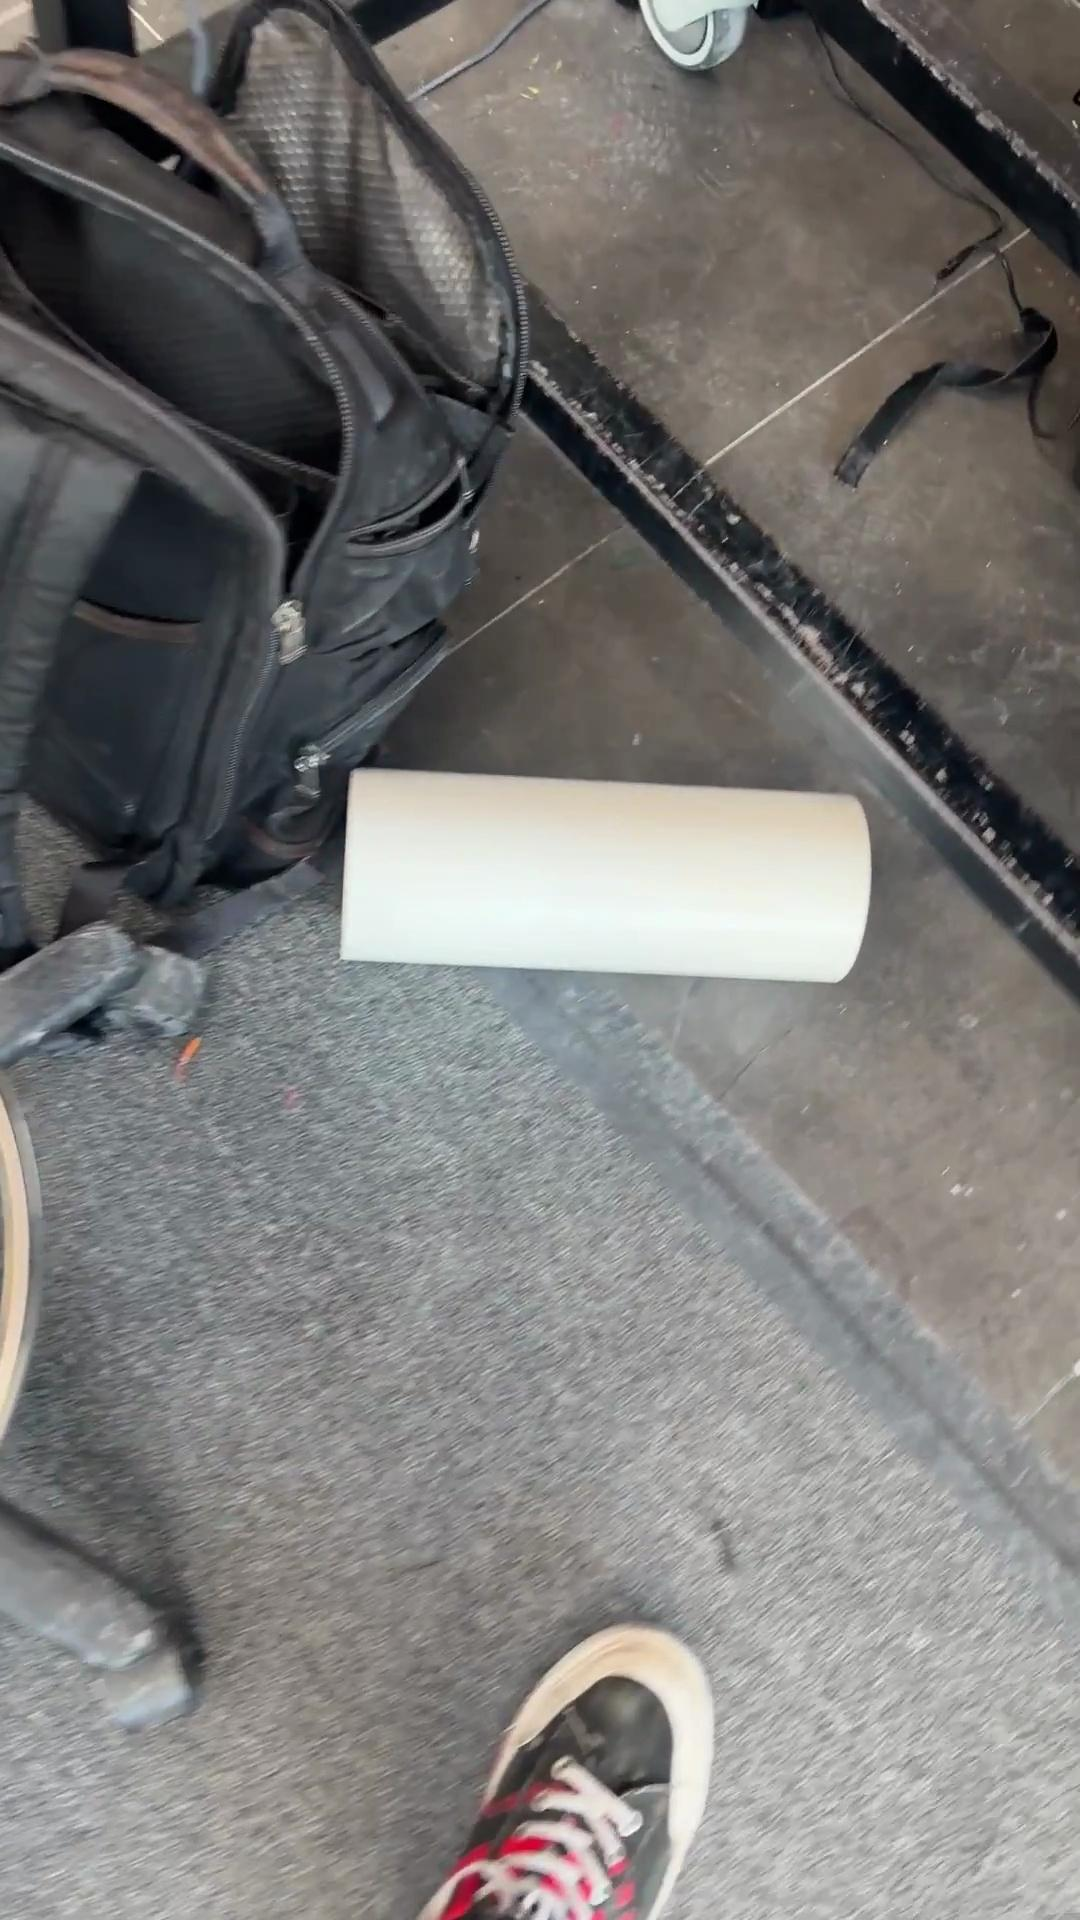CORAL: (336, 763, 873, 986)
